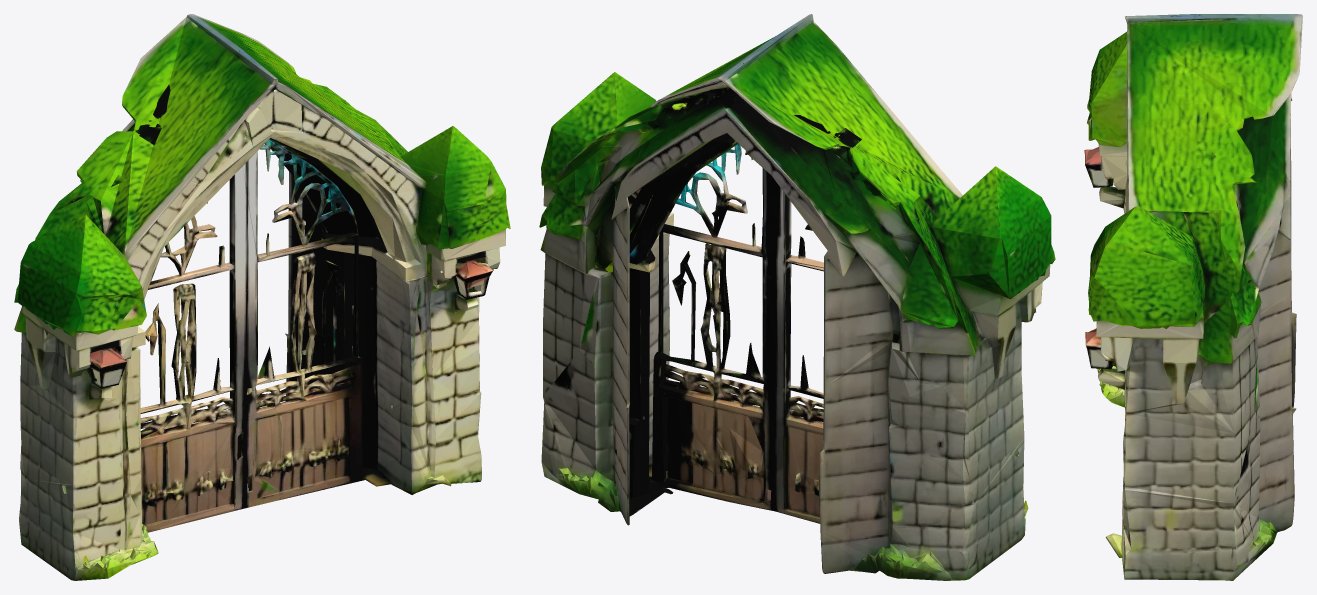
File: landmark_graveyard_gate.glb
3 views of the same model, side by side, from view 1: azimuth 30°, elevation 25°; view 2: azimuth 150°, elevation 25°; view 3: azimuth 270°, elevation 25° (orthographic). The views are drawn at different scales.
Parts seen in each view (by area): view 1: geometry_0; view 2: geometry_0; view 3: geometry_0.
Boxes of the visible parts, bbox=[...] form: geometry_0: bbox=[14, 14, 510, 580]; geometry_0: bbox=[539, 14, 1055, 580]; geometry_0: bbox=[1084, 14, 1302, 580].
Bounding box in the file's own units: 0.999 × 0.9641 × 0.4108.
Materials: 1 (1 with a texture image).
